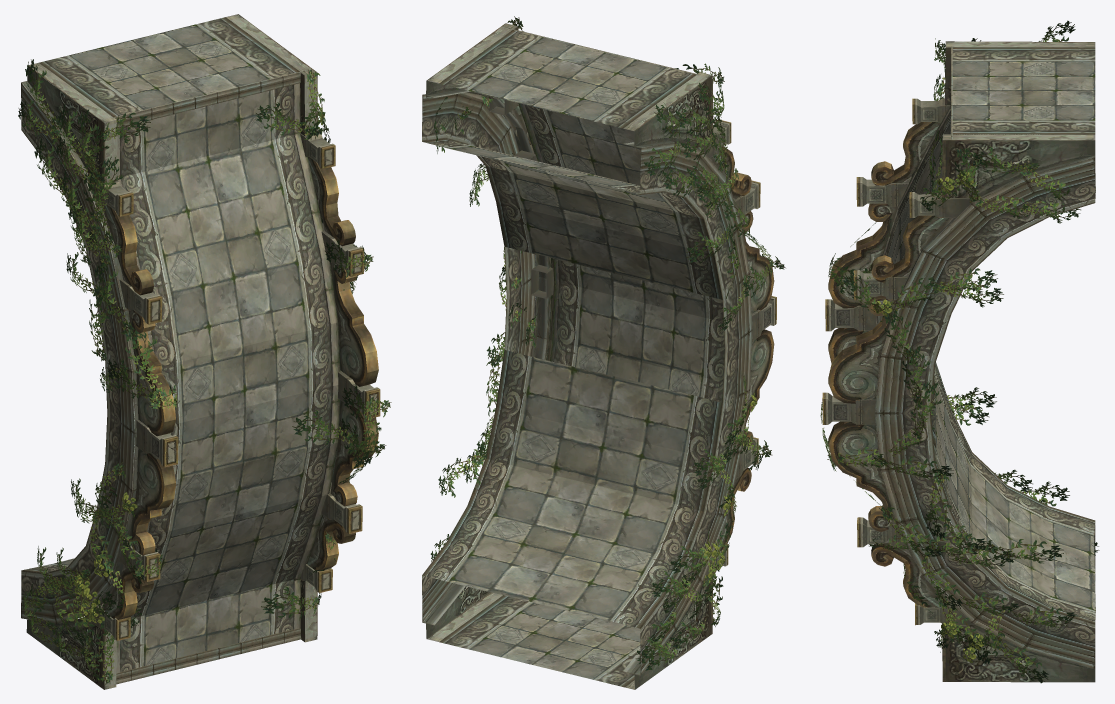
Rendered from zhucheng_yewai_291_qiao_02.obj.
3 renders of one model, left to right at view 1: azimuth 30°, elevation 25°; view 2: azimuth 150°, elevation 25°; view 3: azimuth 270°, elevation 25°, orthographic. The views are drawn at different scales.
Visible parts, largest first — view 1: zhucheng_yewai_291_qiao_02, zhucheng_yewai_291_zhiwu_01; view 2: zhucheng_yewai_291_qiao_02, zhucheng_yewai_291_zhiwu_01; view 3: zhucheng_yewai_291_qiao_02, zhucheng_yewai_291_zhiwu_01.
Part boxes in pixels (x1=…): zhucheng_yewai_291_qiao_02: x1=21, y1=14, x2=380, y2=689; zhucheng_yewai_291_zhiwu_01: x1=18, y1=59, x2=391, y2=684; zhucheng_yewai_291_qiao_02: x1=422, y1=23, x2=776, y2=689; zhucheng_yewai_291_zhiwu_01: x1=430, y1=16, x2=785, y2=670; zhucheng_yewai_291_qiao_02: x1=822, y1=41, x2=1095, y2=682; zhucheng_yewai_291_zhiwu_01: x1=820, y1=20, x2=1099, y2=683.
Size of the model in its own units: 424 by 967 by 426.
7 materials, 7 textured.
